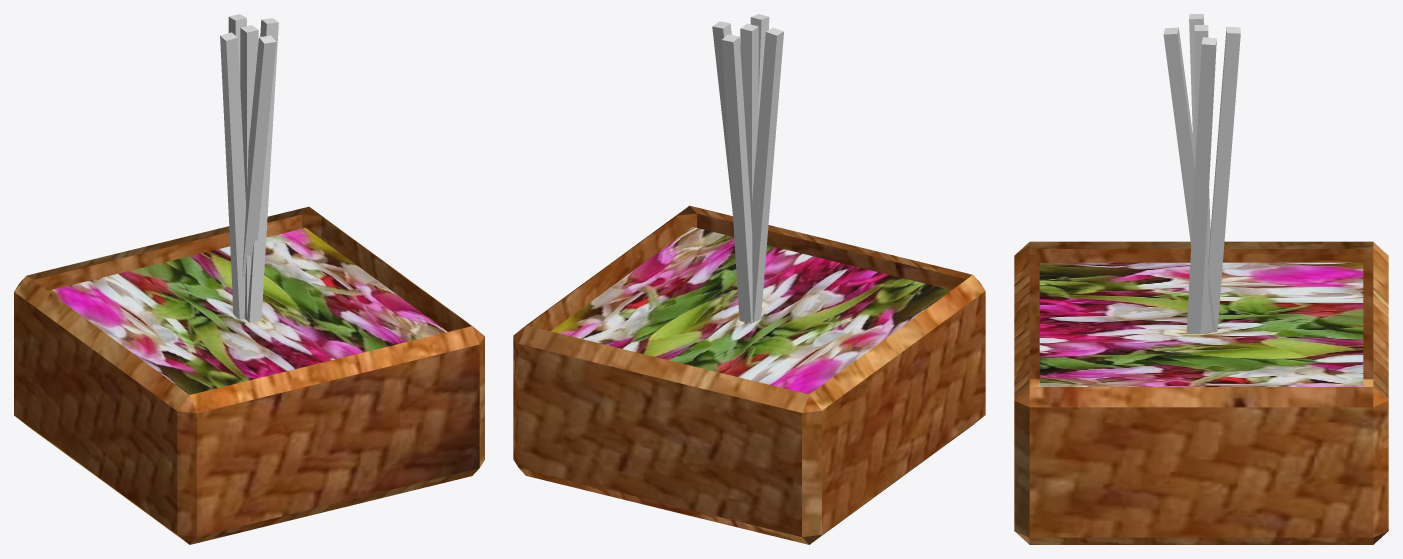
Rendered from sesajen.fbx.
3 views of the same model, side by side, from view 1: azimuth 30°, elevation 25°; view 2: azimuth 150°, elevation 25°; view 3: azimuth 270°, elevation 25° (orthographic). The views are drawn at different scales.
Parts seen in each view (by area): view 1: Cube.001, Cube.002, Cube.005, Cube.003, Cube.006, Cube; view 2: Cube.001, Cube.002, Cube.004, Cube.005, Cube, Cube.006, Cube.003; view 3: Cube.001, Cube.002, Cube.006, Cube.004, Cube.003, Cube, Cube.005.
Boxes of the visible parts, box(x1,y1,x2,y2) form: Cube.001: box(14, 206, 484, 544); Cube.002: box(48, 228, 447, 394); Cube.005: box(220, 32, 245, 319); Cube.003: box(242, 35, 276, 277); Cube.006: box(246, 18, 278, 322); Cube: box(240, 25, 258, 319); Cube.001: box(513, 205, 985, 544); Cube.002: box(551, 227, 951, 394); Cube.004: box(721, 34, 752, 323); Cube.005: box(751, 27, 783, 322); Cube: box(740, 23, 758, 213); Cube.006: box(712, 21, 762, 312); Cube.003: box(746, 14, 769, 323); Cube.001: box(1014, 241, 1388, 544); Cube.002: box(1039, 262, 1363, 386); Cube.006: box(1186, 37, 1216, 333); Cube.004: box(1208, 26, 1240, 332); Cube.003: box(1163, 27, 1216, 332); Cube: box(1194, 25, 1208, 333); Cube.005: box(1189, 14, 1210, 260).
Size of the model in its own units: 38.73 by 50.77 by 38.73.
